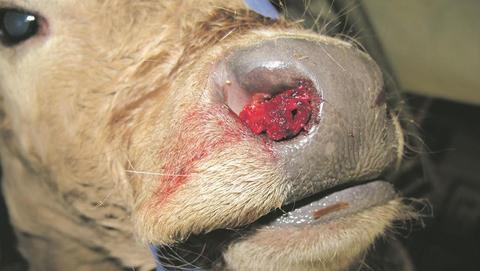bleeding: (223, 73, 334, 150)
